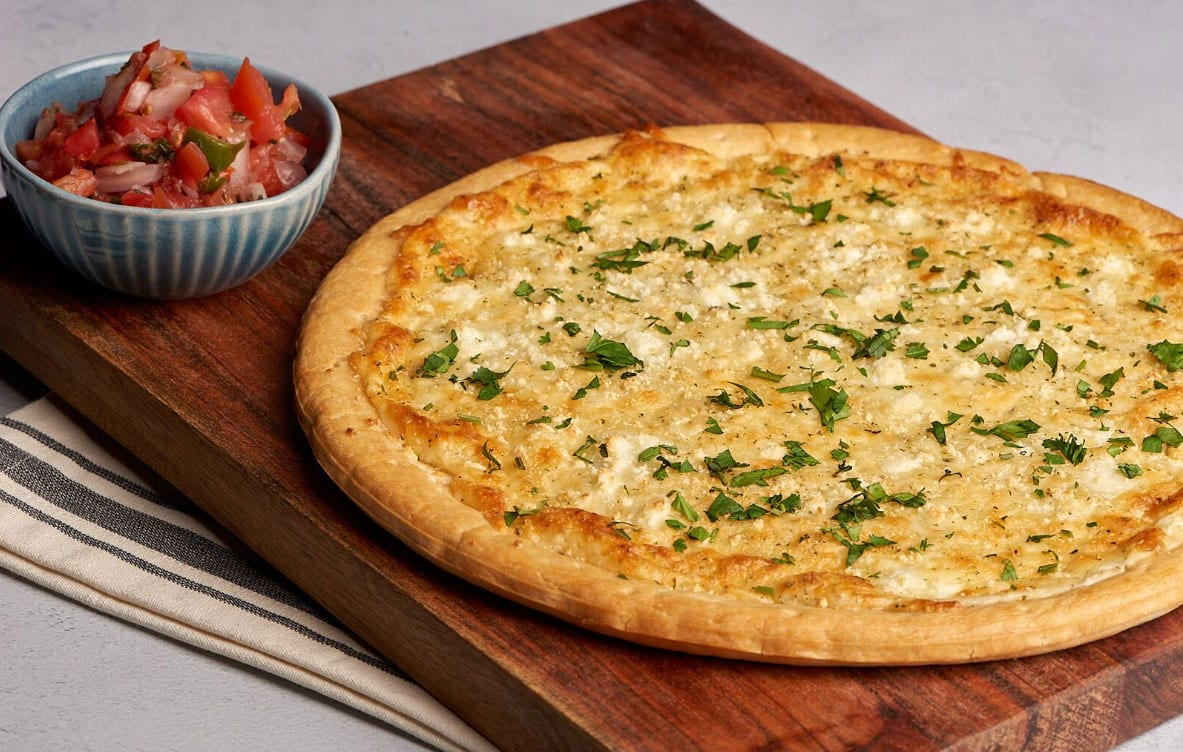cheese: (524, 223, 976, 525)
